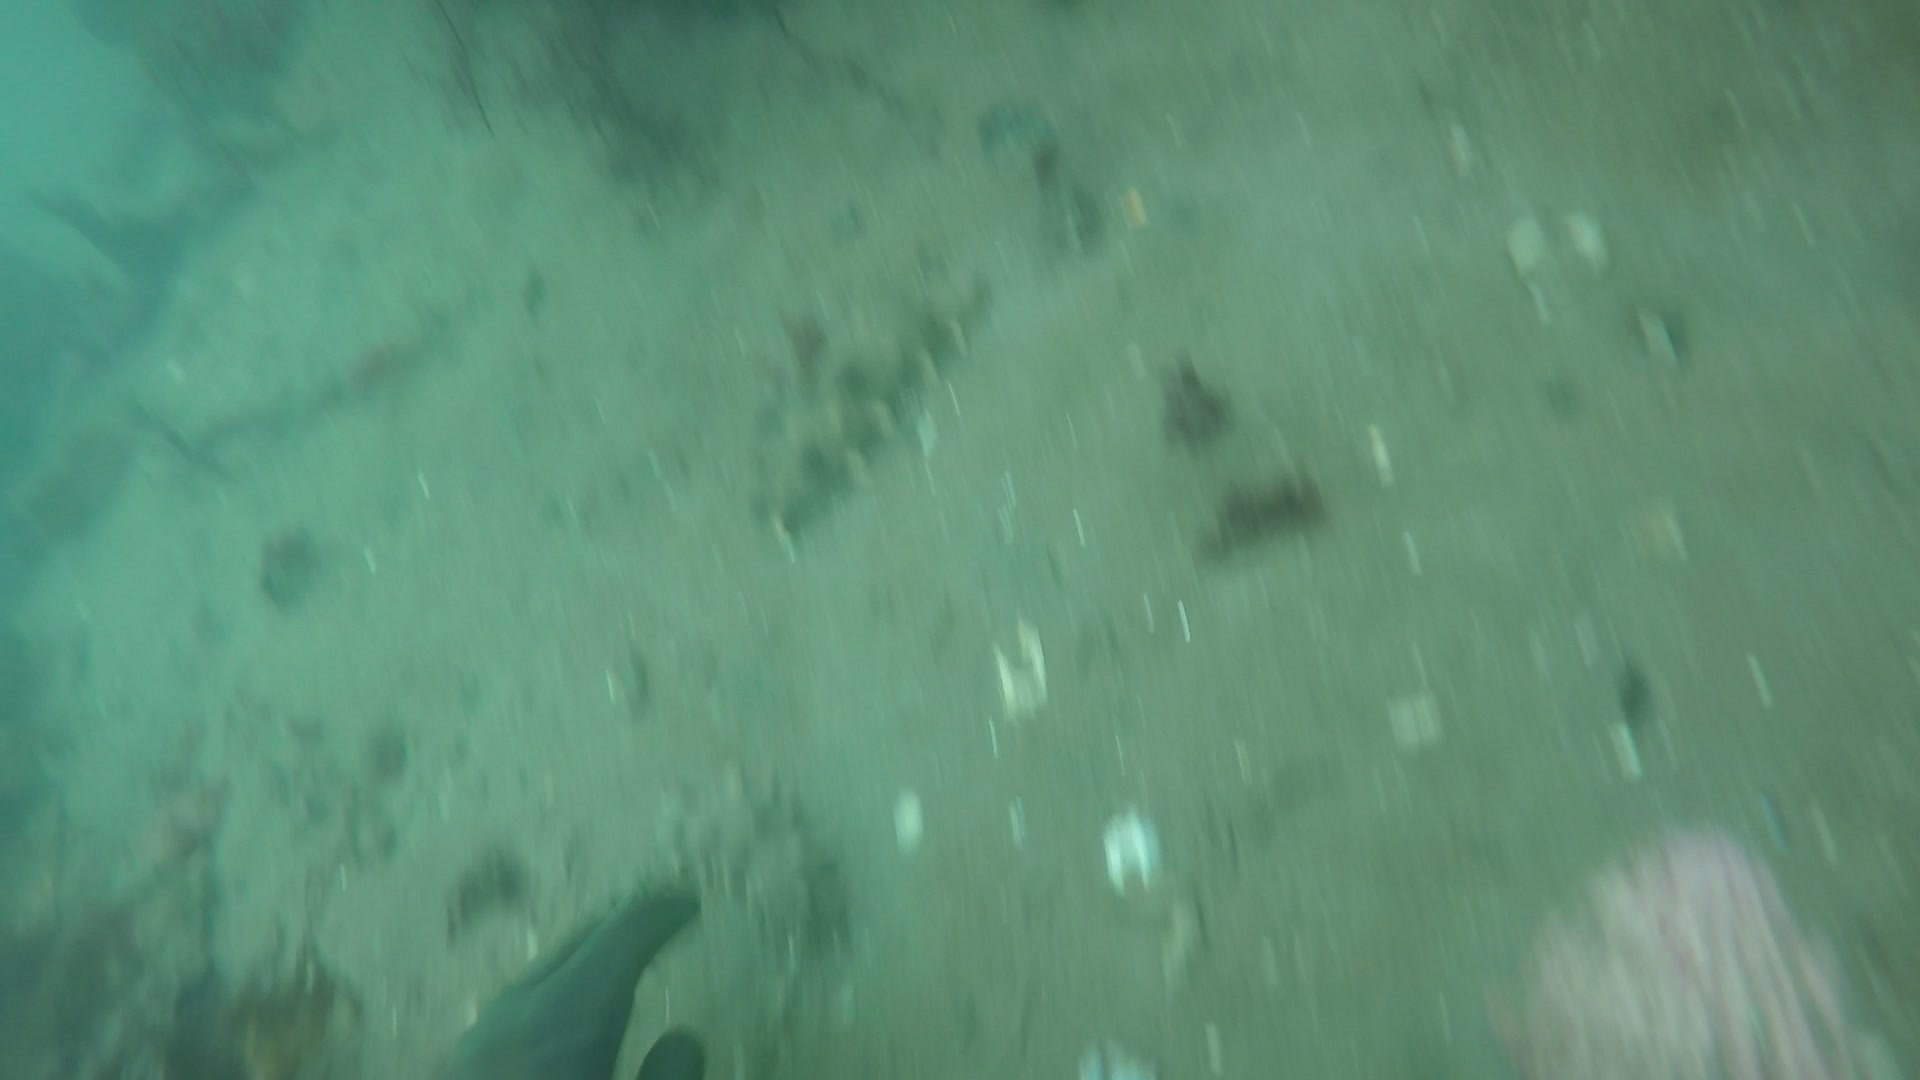holothurian: (744, 261, 993, 549)
